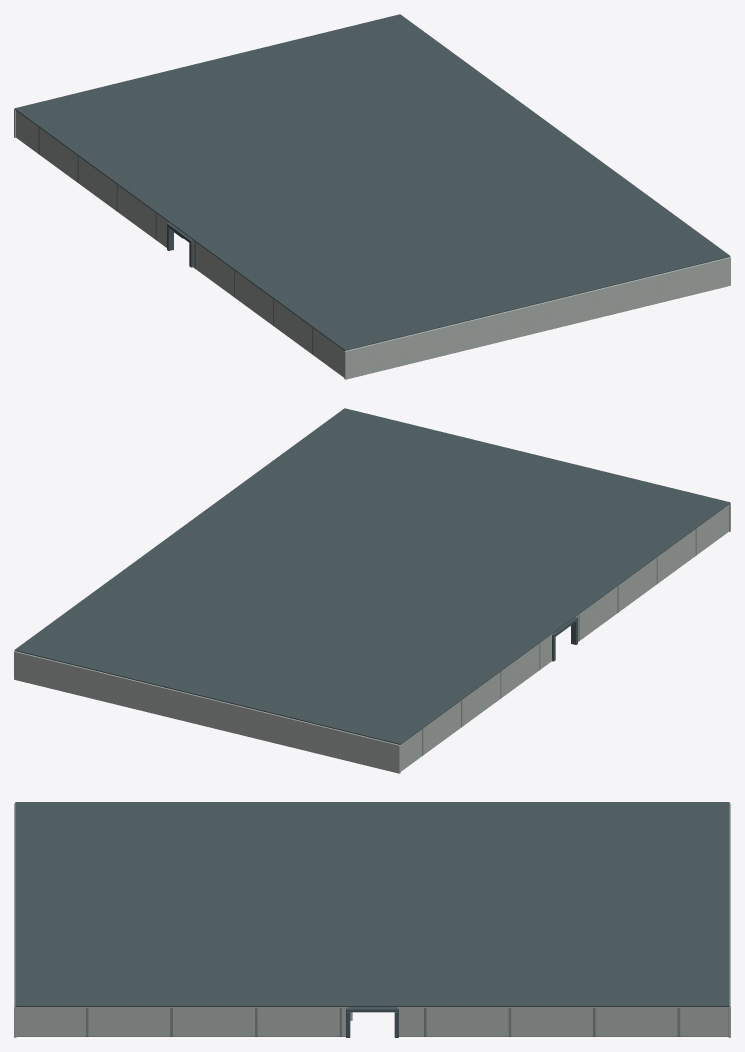
File: D03_directory_10.glb
3 renders of one model, top to bottom at view 1: azimuth 30°, elevation 25°; view 2: azimuth 150°, elevation 25°; view 3: azimuth 270°, elevation 25°, orthographic. The views are drawn at different scales.
Parts seen in each view (by area): view 1: E_ceiling, E_outer_north, E_outer_west0, E_outer_west1; view 2: E_ceiling, E_outer_south, E_outer_west1, E_outer_west0; view 3: E_ceiling, E_outer_east0, E_outer_east1, E_outer_south, E_outer_north.
Boxes of the visible parts, left/top/right/bottom form: E_ceiling: left=14, top=14, right=730, bottom=350; E_outer_north: left=344, top=257, right=730, bottom=379; E_outer_west0: left=16, top=110, right=169, bottom=247; E_outer_west1: left=192, top=239, right=344, bottom=377; E_ceiling: left=14, top=408, right=730, bottom=744; E_outer_south: left=14, top=651, right=400, bottom=773; E_outer_west1: left=575, top=504, right=728, bottom=641; E_outer_west0: left=400, top=633, right=552, bottom=771; E_ceiling: left=15, top=802, right=729, bottom=1006; E_outer_east0: left=396, top=1007, right=728, bottom=1036; E_outer_east1: left=16, top=1007, right=348, bottom=1036; E_outer_south: left=728, top=803, right=730, bottom=1037; E_outer_north: left=14, top=803, right=16, bottom=1037.
Bounding box in the file's own units: 45.75 × 3.34 × 67.84.
Materials: 11 (11 with a texture image).
